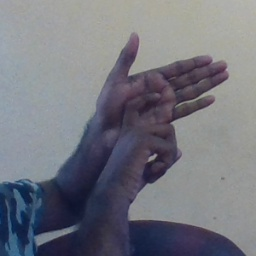R: (84, 33, 226, 184)
